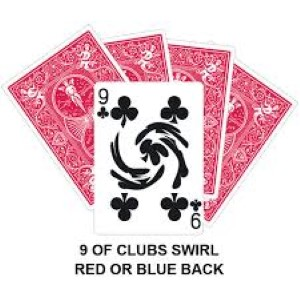NineOfClubs: (85, 79, 209, 234)
